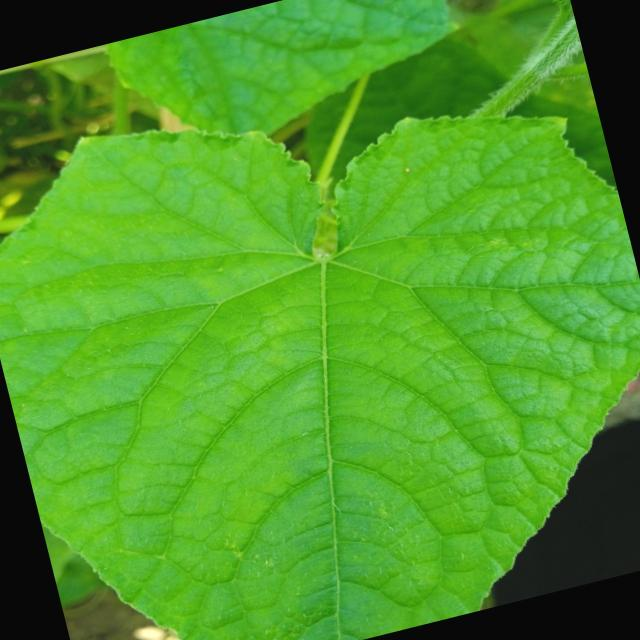cucumber_healthy: (0, 10, 640, 640), (90, 0, 488, 162)
